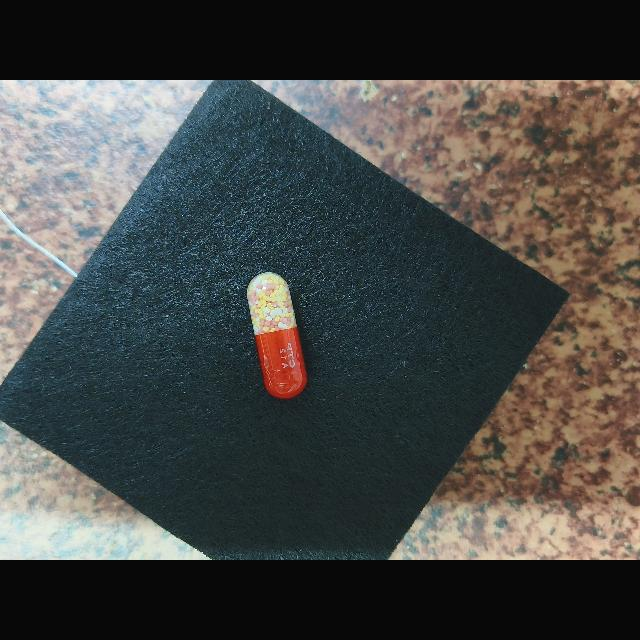Intact Capsule: (247, 272, 307, 399)
